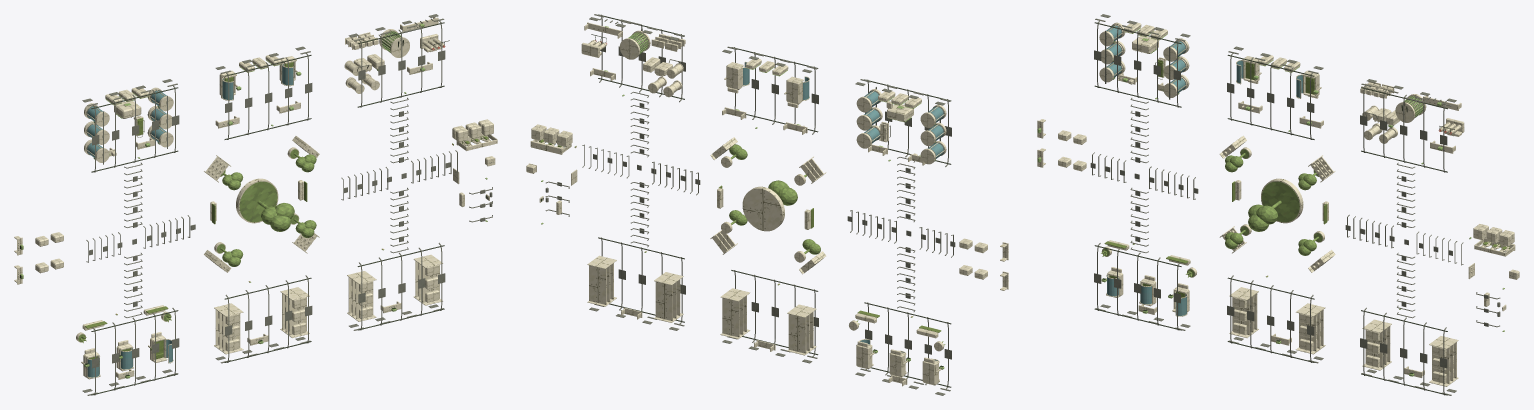
File: ECHO7_Interior_Inferior.obj
3 renders of one model, left to right at view 1: azimuth 30°, elevation 25°; view 2: azimuth 150°, elevation 25°; view 3: azimuth 330°, elevation 25°, orthographic.
Visible parts, largest first — view 1: ECHO7_09_Habitat_Central__Tierra_central_01; view 2: ECHO7_09_Habitat_Central__Jardinera_central_01, ECHO7_23_Archivo_Biologico__Estante_archivo_04, ECHO7_23_Archivo_Biologico__Estante_archivo_01, ECHO7_24_Almacen_Logistica__Estante_archivo_01, ECHO7_24_Almacen_Logistica__Estante_archivo_04; view 3: ECHO7_09_Habitat_Central__Tierra_central_01.
Part boxes in pixels (x1,y1,x2,y2): ECHO7_09_Habitat_Central__Tierra_central_01: (239,181,277,222); ECHO7_09_Habitat_Central__Jardinera_central_01: (742,186,784,231); ECHO7_23_Archivo_Biologico__Estante_archivo_04: (788,314,806,353); ECHO7_23_Archivo_Biologico__Estante_archivo_01: (722,298,739,337); ECHO7_24_Almacen_Logistica__Estante_archivo_01: (589,265,606,304); ECHO7_24_Almacen_Logistica__Estante_archivo_04: (655,281,672,321); ECHO7_09_Habitat_Central__Tierra_central_01: (1261,181,1299,222).
Size of the model in its own units: 71.97 by 41.76 by 7.68.
Materials: 9 (9 with a texture image).
